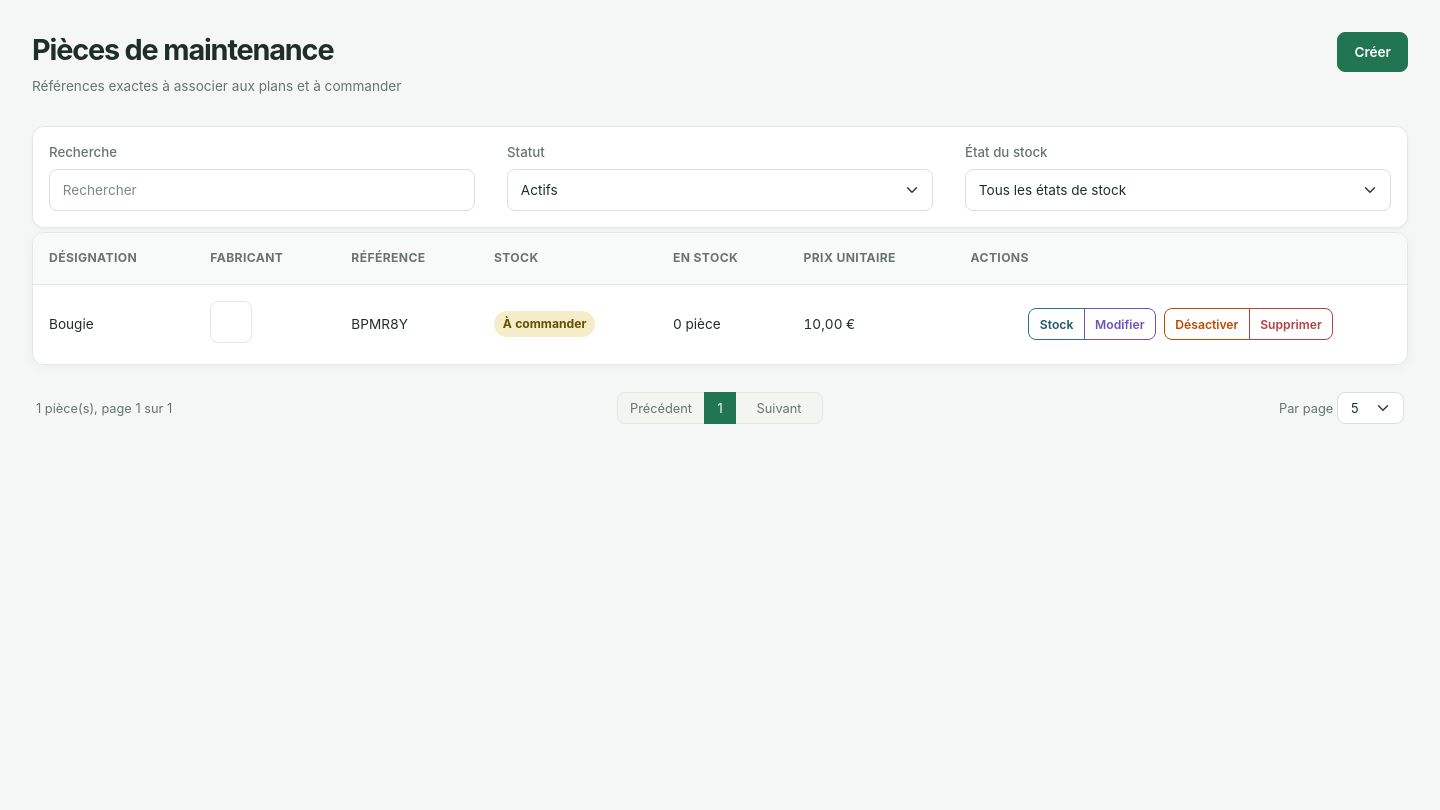
it: dedicated maintenance catalogue pages › keeps tracked price changes out of the general part edit form
The width and height of the screenshot is (1440, 810).
Click the button with aria-label "Modifier Bougie".
click(1120, 324)  # box top-left (1084, 308), bottom-right (1156, 340)
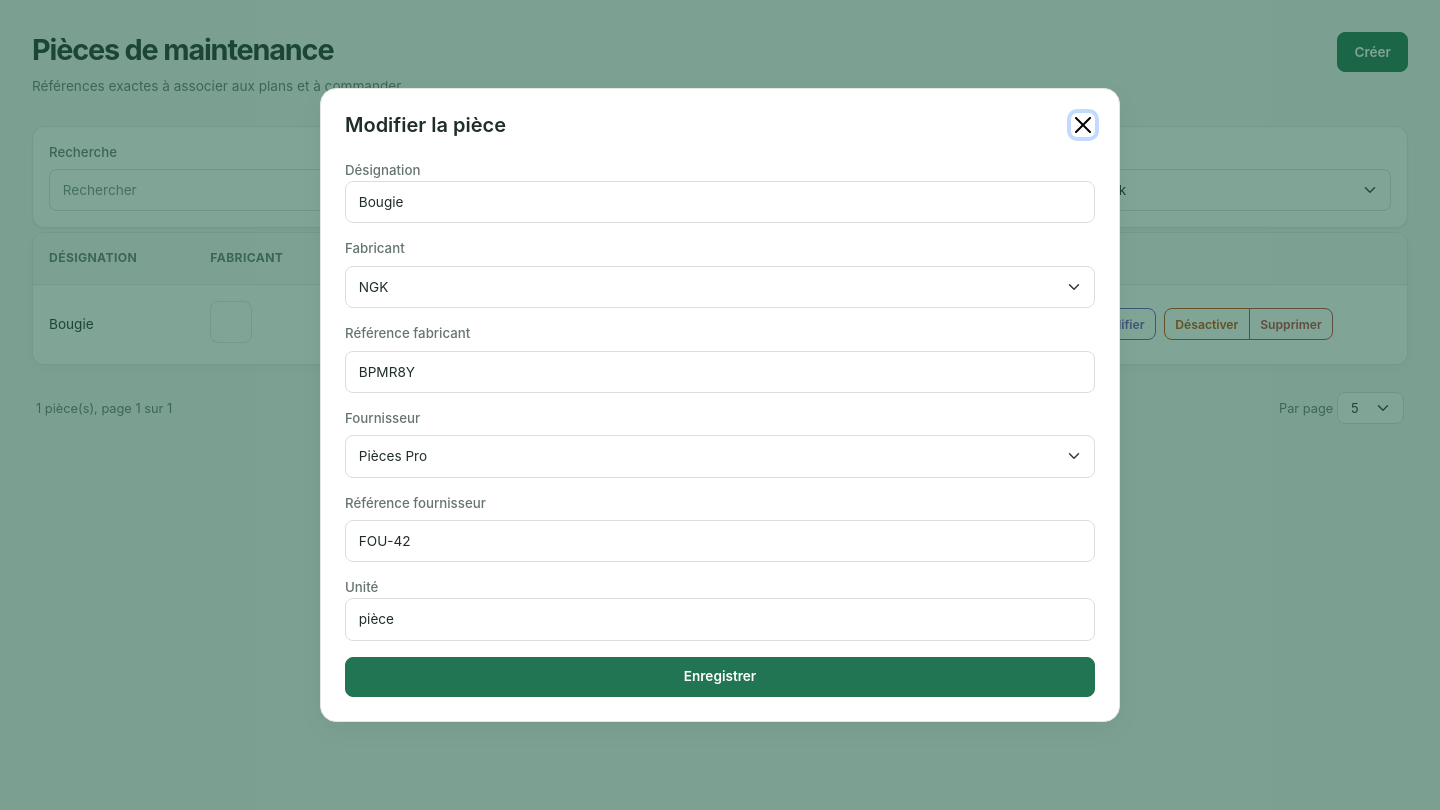
Expected: the dialog is shown, top-left (320, 88), bottom-right (1120, 722)
Expected: the dropdown labelled "Unité" holds "pièce"
Replace the text in the dropdown labelled "Unité" with "iè" at (720, 619), box top-left (345, 598), bottom-right (1095, 641)
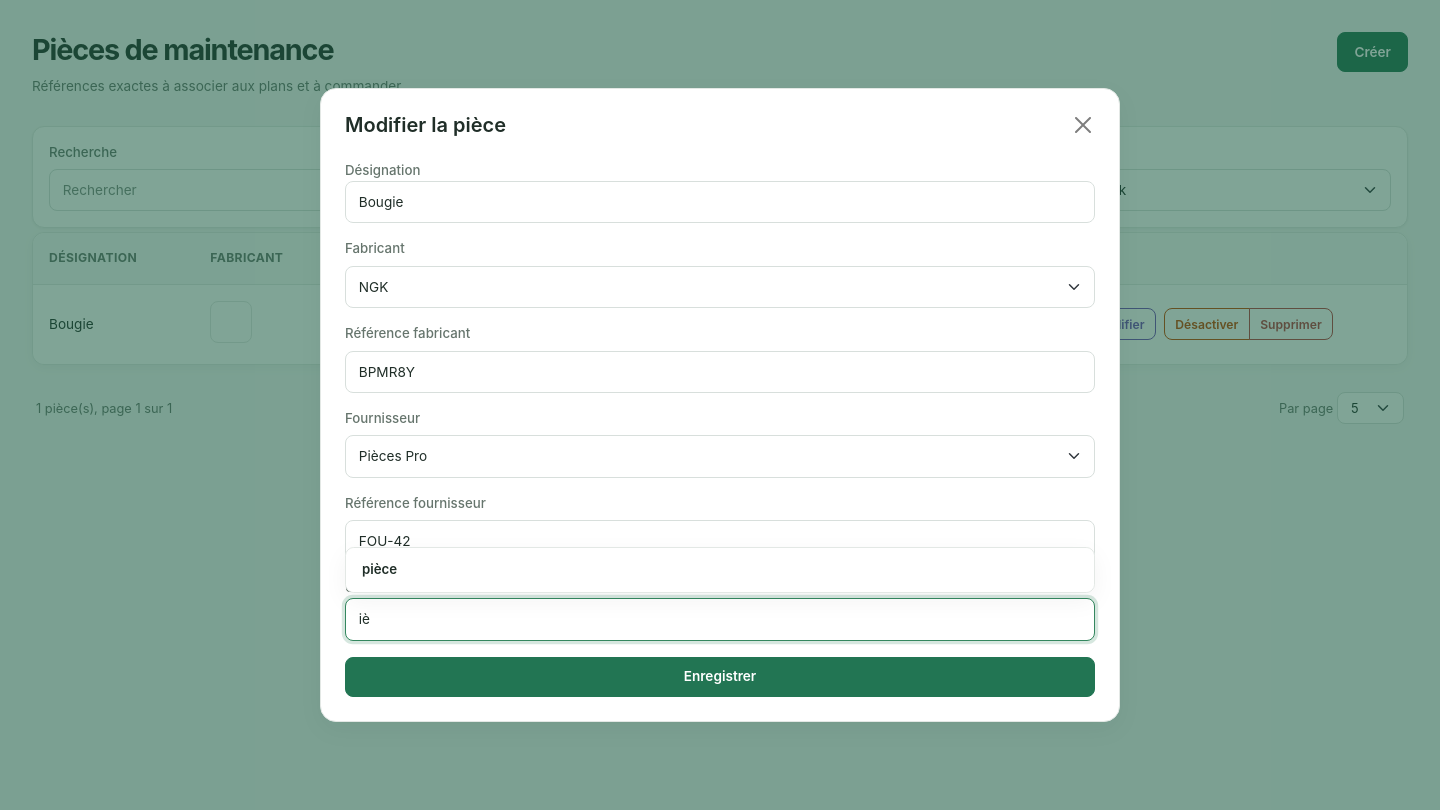
Click the option "pièce".
click(380, 569)  # box top-left (346, 548), bottom-right (1094, 592)
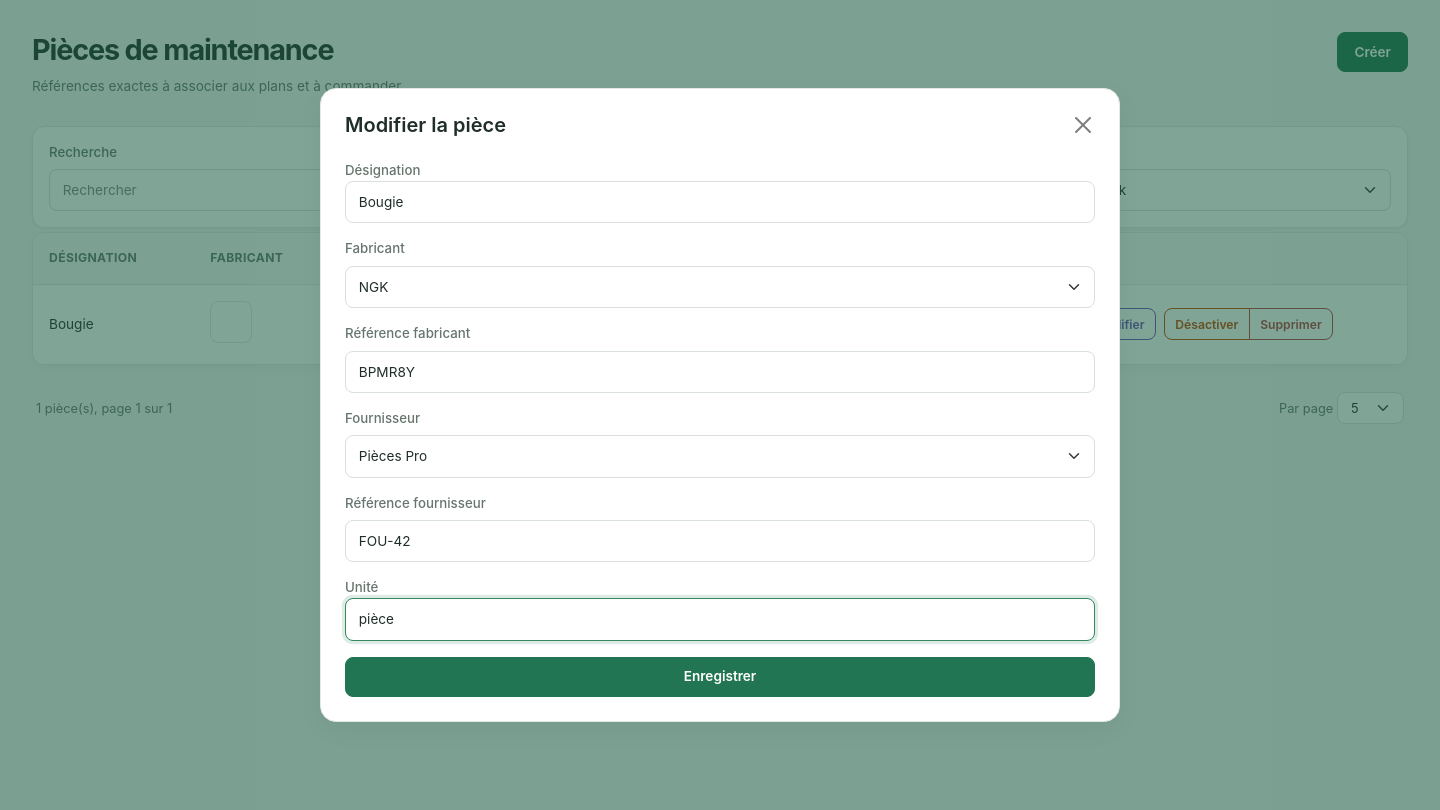
Expected: the dropdown labelled "Unité" holds "pièce", top-left (345, 598), bottom-right (1095, 641)
